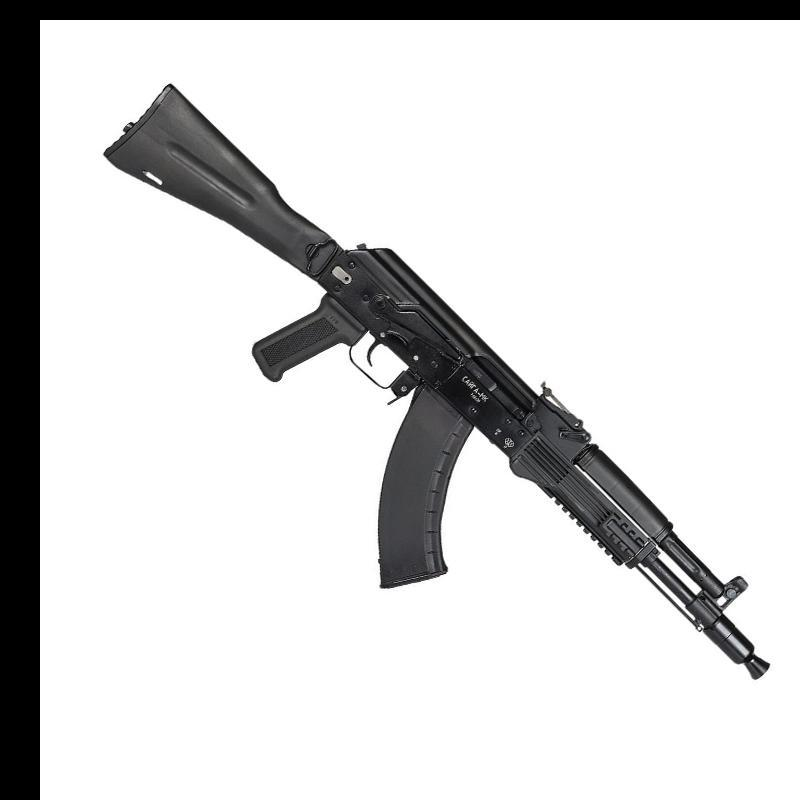larga: (102, 81, 772, 684)
